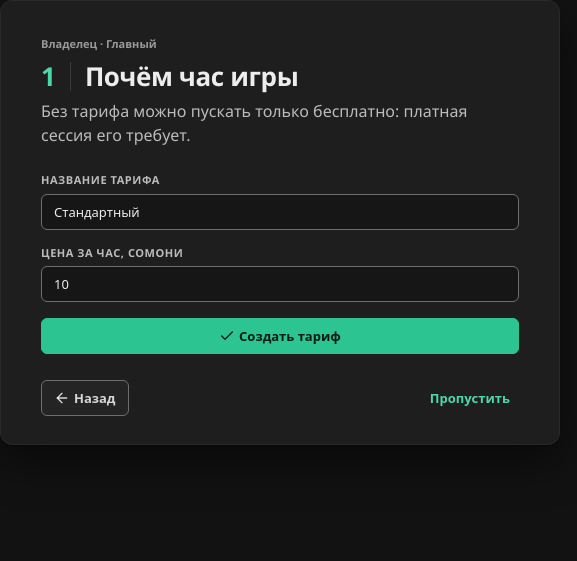
Test case: TariffScreen › называет занятое имя тарифа, а не отправляет проверять цену
Click the button "Создать тариф" at [280, 336], box [41, 318, 519, 354]
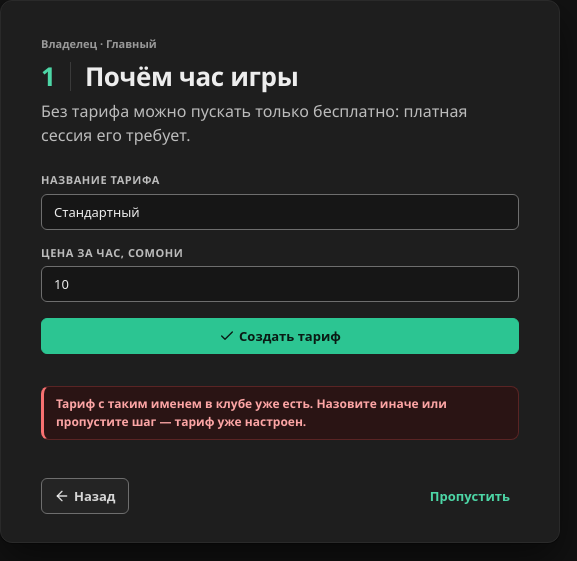
expect the text "Тариф с таким именем в клубе уже есть" is shown: met, box [56, 395, 447, 430]
